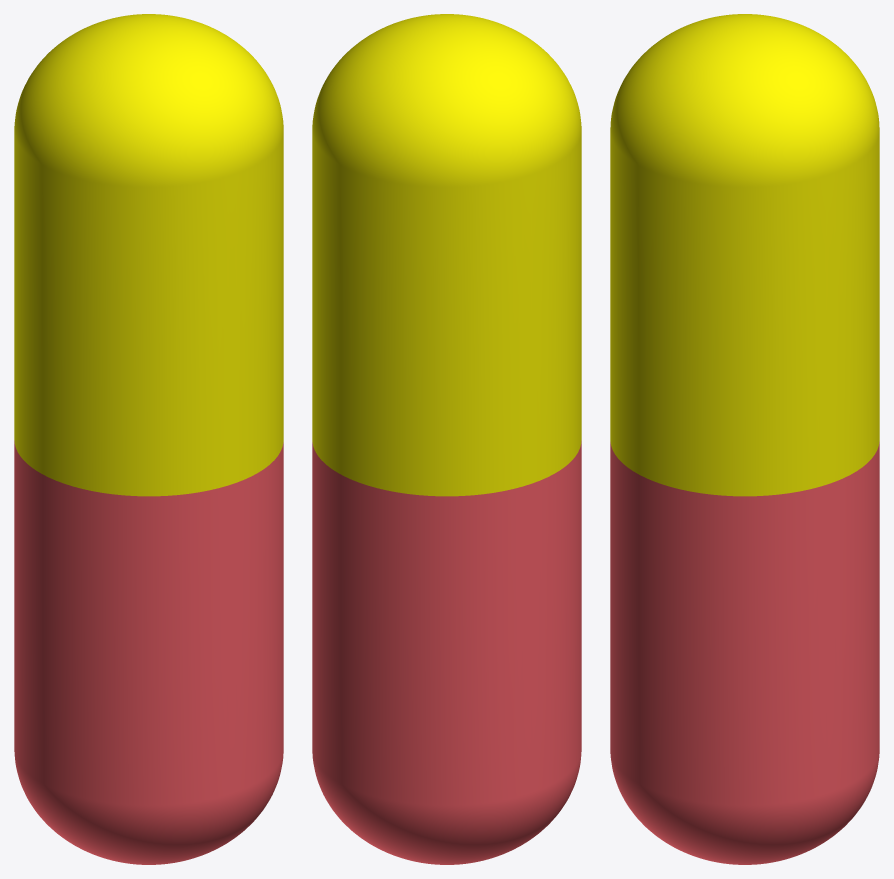
Rendered from RedLong.gltf.
The picture shows the model from 3 angles, left to right: view 1: azimuth 30°, elevation 25°; view 2: azimuth 150°, elevation 25°; view 3: azimuth 270°, elevation 25°; orthographic projection.
Bounding box in the file's own units: 0.1606 × 0.5405 × 0.1606.
